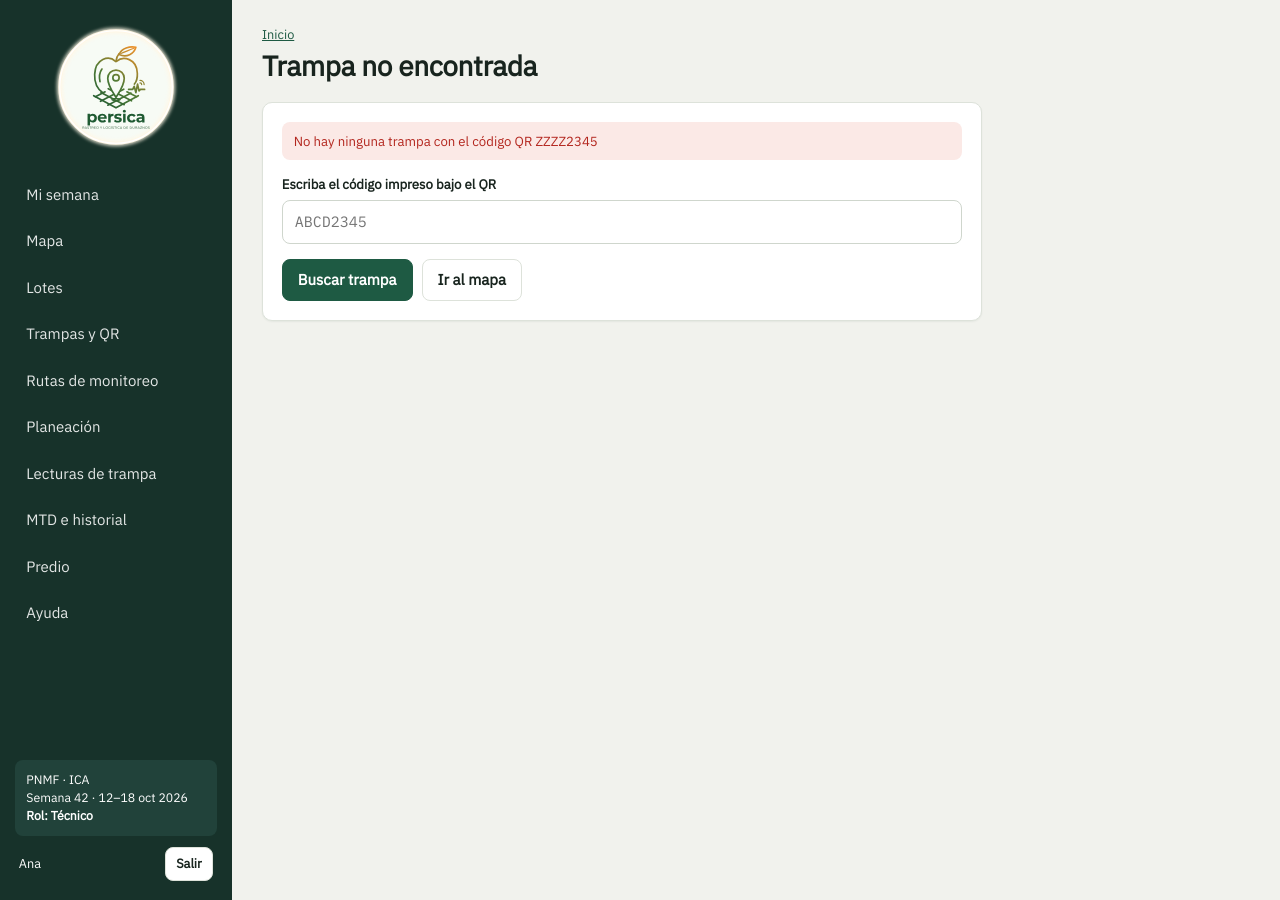
Test: VistaFichaTrampa › ante un código inexistente muestra el mensaje y permite escribir el de la etiqueta
Check: the message reads "No hay ninguna trampa con el código QR ZZZZ2345", box [294,132,598,150]
Type "abcd2345" into the field labelled "Escriba el código impreso bajo el QR" at (622, 222), box [282,200,962,244]
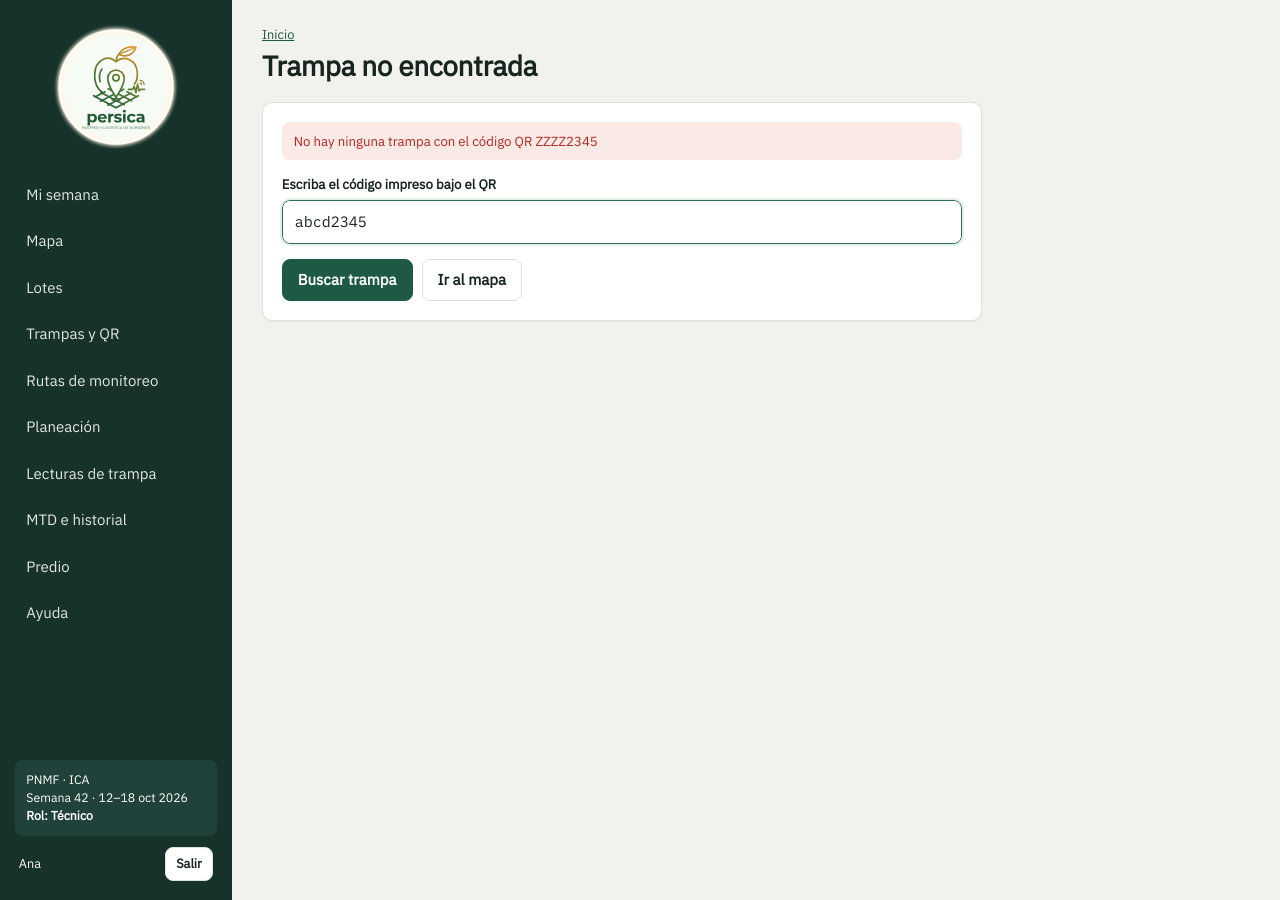
Click the button "Buscar trampa" at (347, 280), box [282,259,413,301]
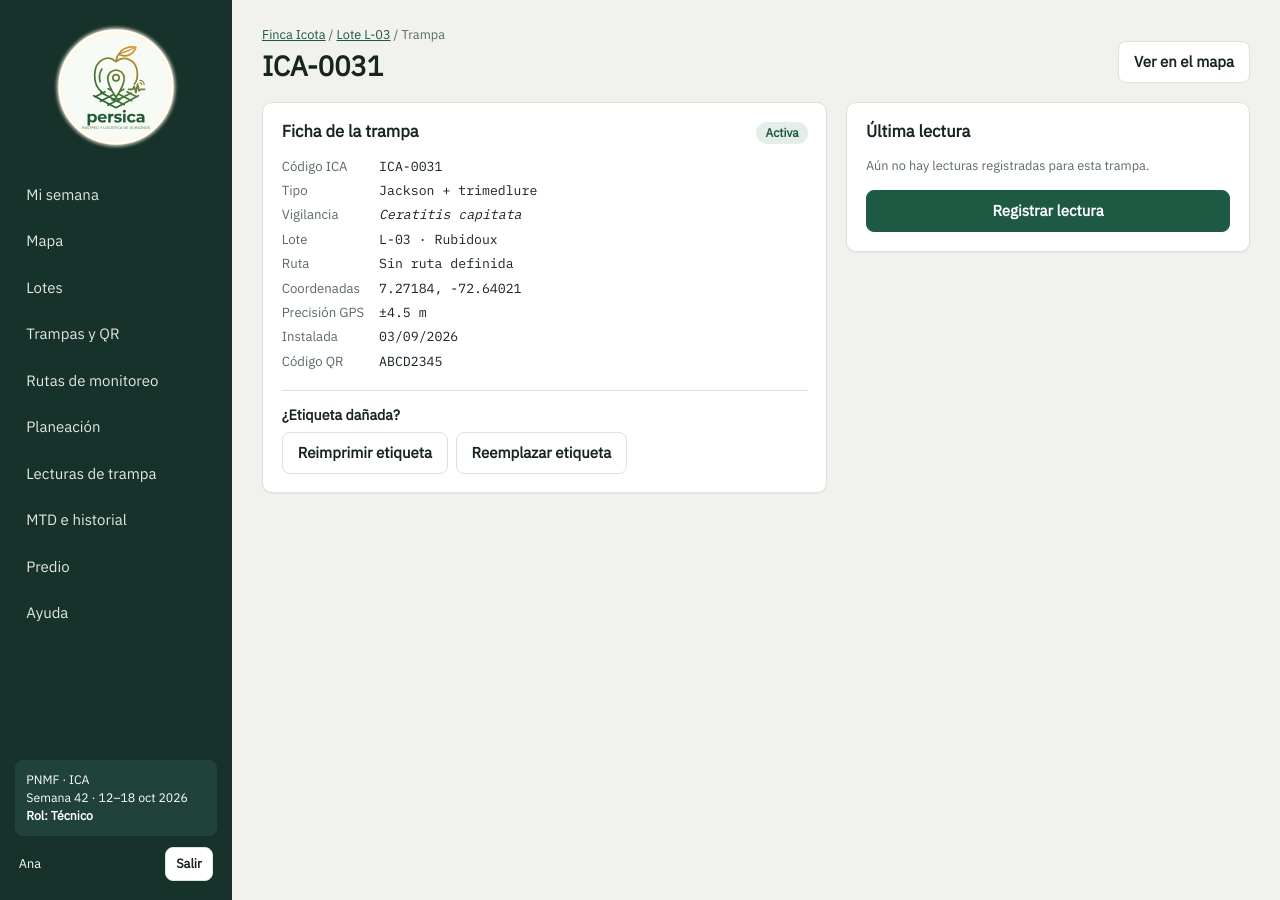
Check: the heading "ICA-0031" is shown, box [262,48,383,84]
